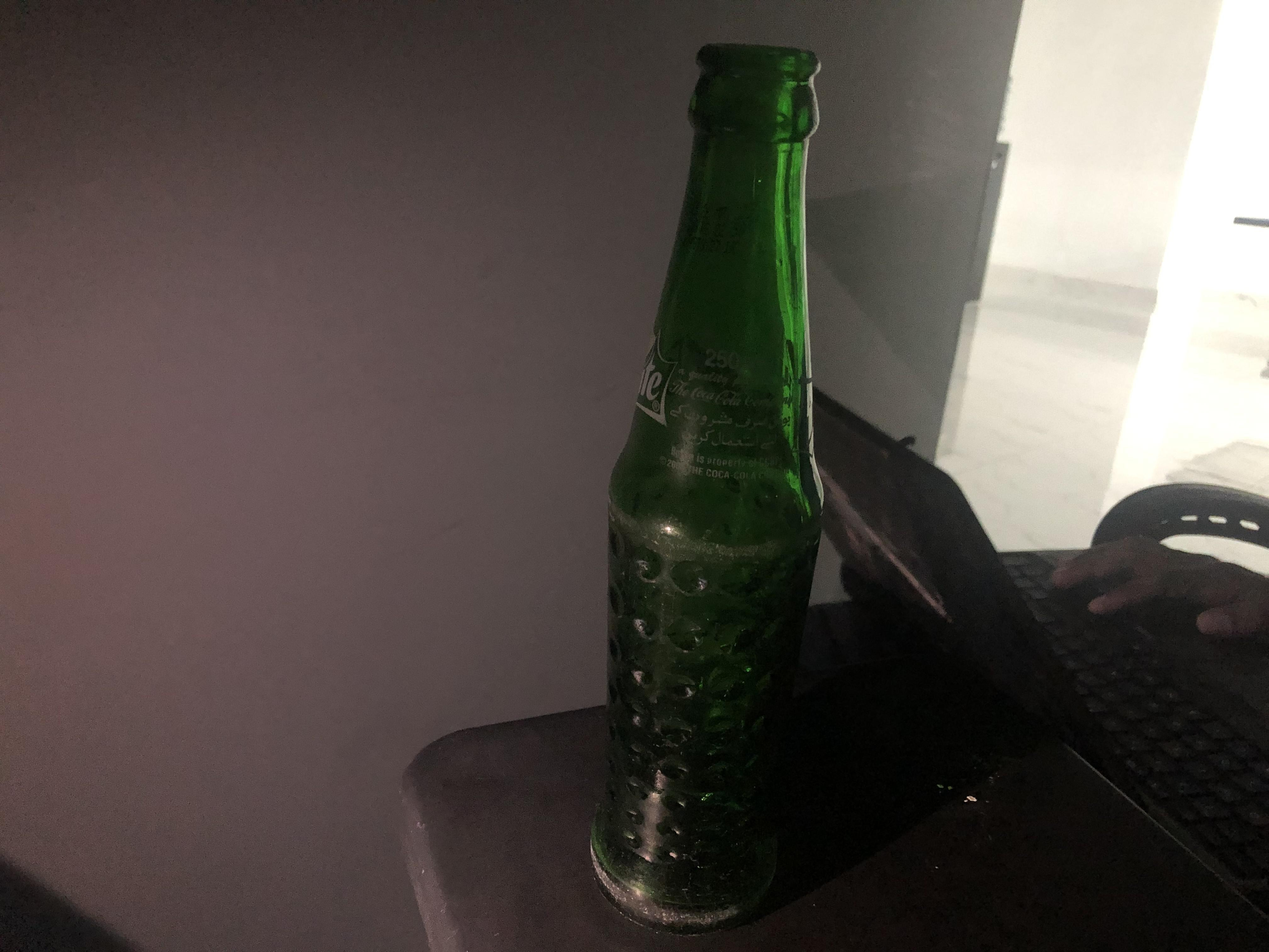bottle-glass: (588, 40, 829, 929)
